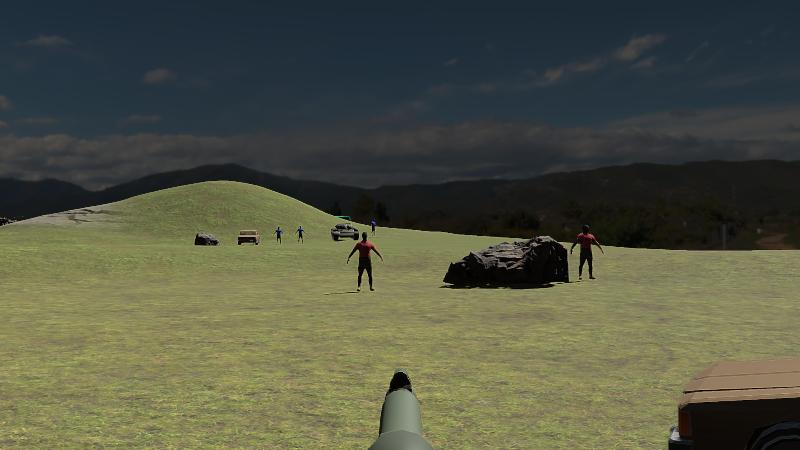Human: (347, 232, 384, 292), (571, 223, 604, 281)
